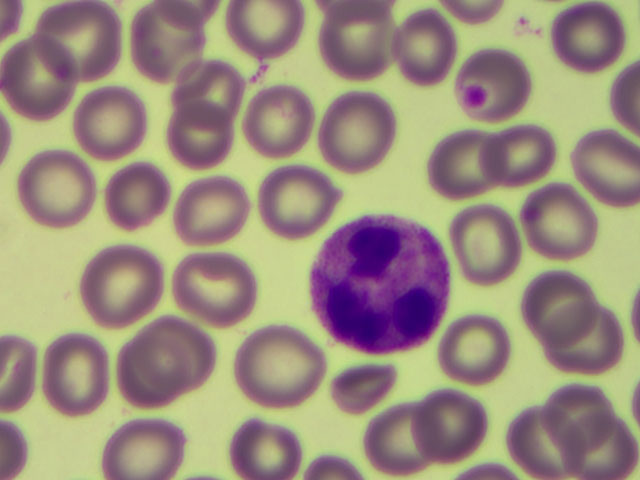Platelets: (464, 86, 484, 107)
RBC: (23, 151, 100, 236), (39, 1, 123, 76), (316, 1, 396, 78), (236, 328, 316, 405), (134, 10, 206, 94), (547, 299, 624, 376), (42, 332, 112, 416), (359, 394, 427, 478), (174, 255, 256, 324), (525, 271, 598, 345), (122, 334, 191, 412), (451, 208, 520, 285), (328, 89, 393, 170), (171, 180, 250, 245), (8, 45, 81, 115), (84, 250, 157, 318), (509, 405, 577, 478), (246, 87, 321, 153), (554, 5, 629, 70), (525, 188, 595, 256), (544, 385, 614, 453), (568, 407, 635, 478), (414, 391, 486, 457), (263, 165, 336, 229), (108, 424, 190, 480), (578, 129, 640, 203), (139, 321, 214, 381), (431, 133, 506, 192), (395, 5, 455, 78), (77, 85, 141, 151), (171, 100, 231, 168), (177, 58, 241, 121), (232, 420, 298, 480), (447, 316, 506, 383), (223, 1, 312, 45), (487, 121, 552, 180), (111, 161, 168, 225), (486, 49, 531, 124), (331, 367, 400, 407), (1, 332, 32, 415), (609, 56, 640, 128), (443, 1, 499, 29), (1, 419, 28, 474)
WBC: (315, 218, 450, 355)
